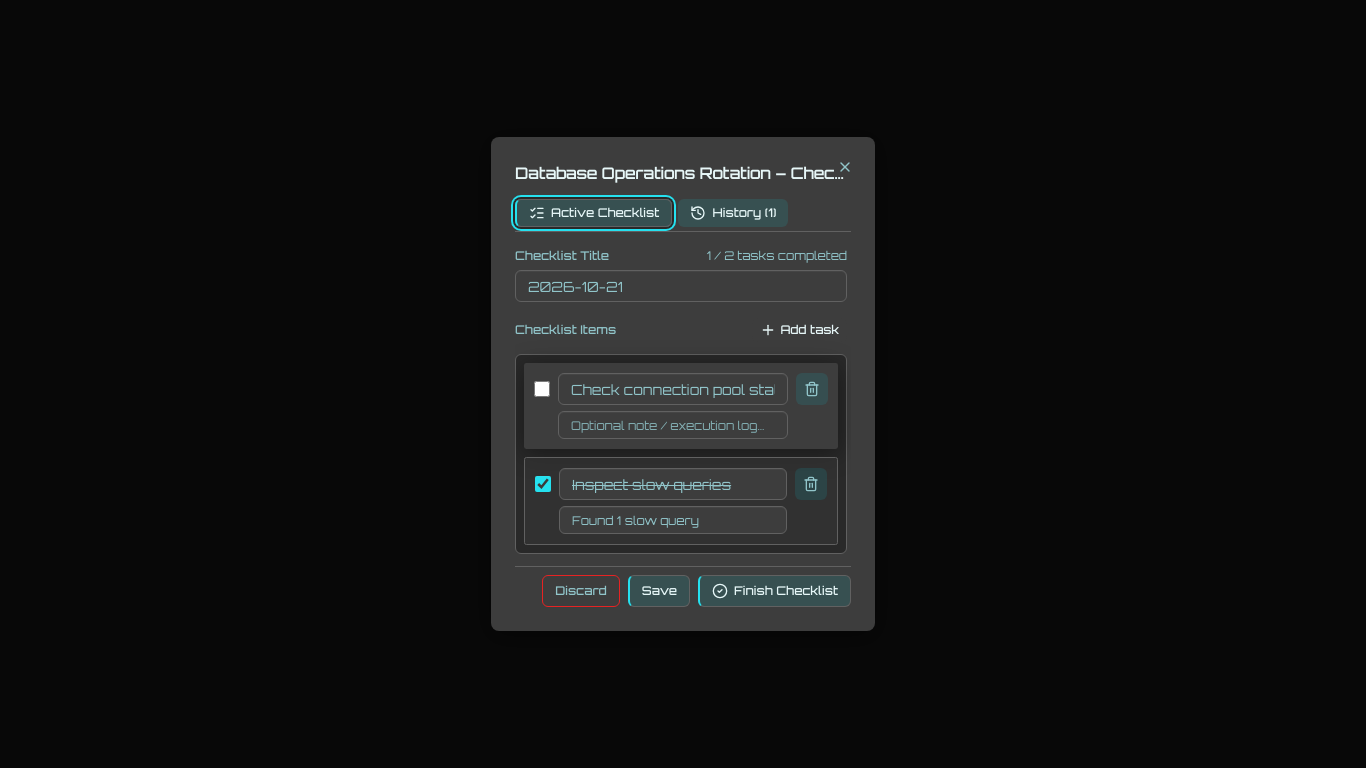
GreenkeepingTasklistDialog › renders completed checklists in read-only mode in History tab
The width and height of the screenshot is (1366, 768).
Click the button "History (1)" at (733, 213), box 678,199 -> 788,227
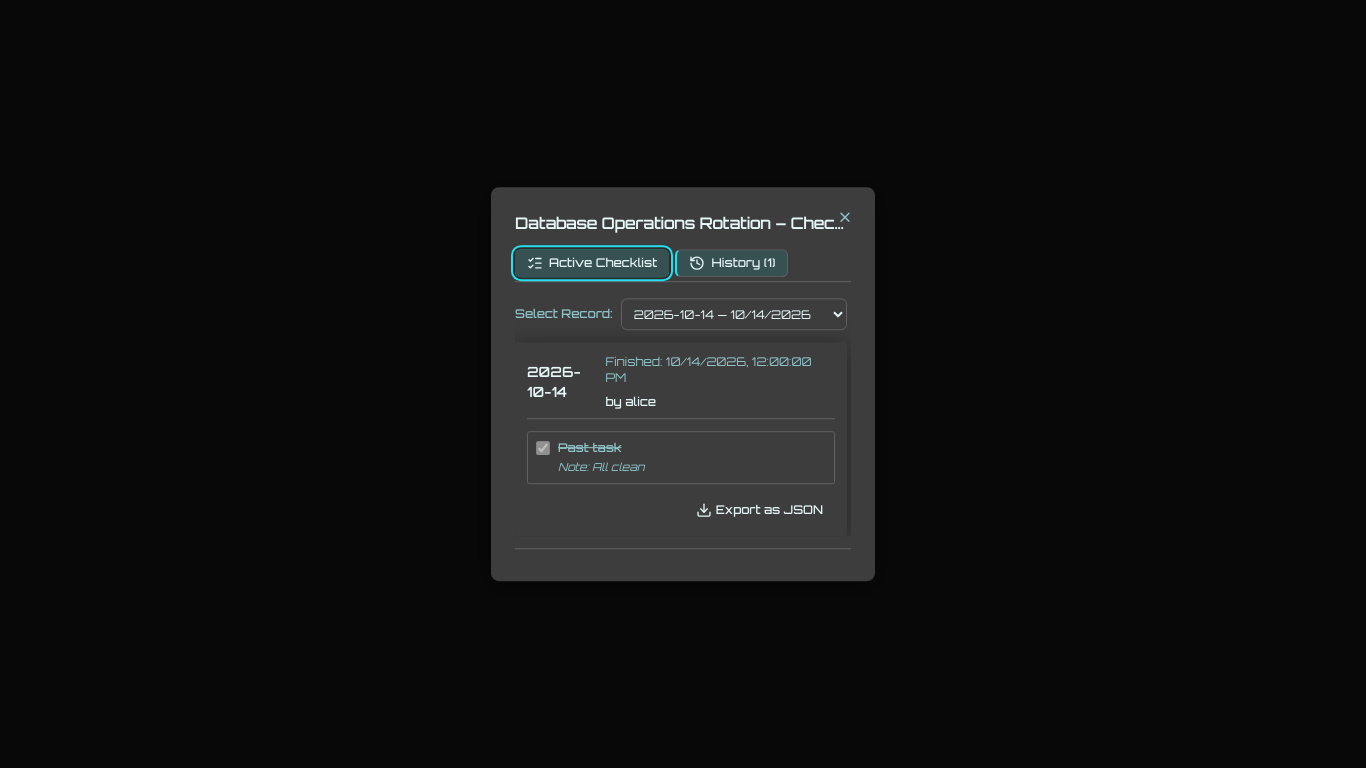
Check: the text "2026-10-14" is shown, box 527,363 -> 581,400
Check: the text "by alice" is shown, box 606,394 -> 656,410
Check: the text "Past task" is shown, box 558,440 -> 622,455
